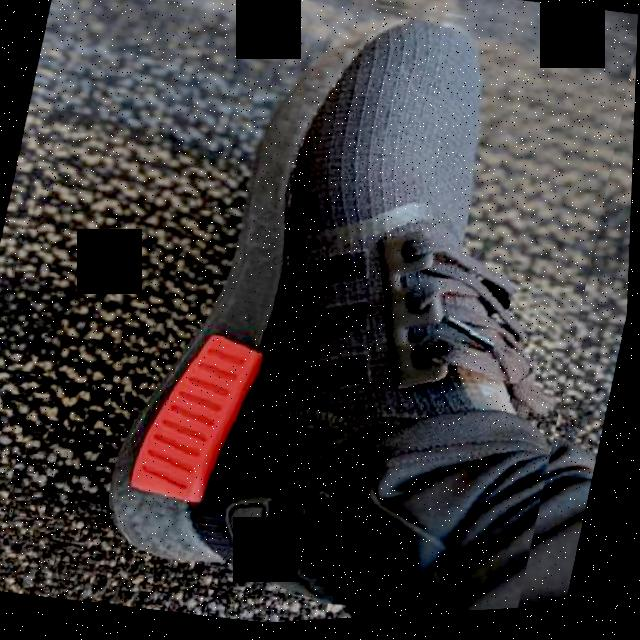shoe: (81, 0, 640, 635)
